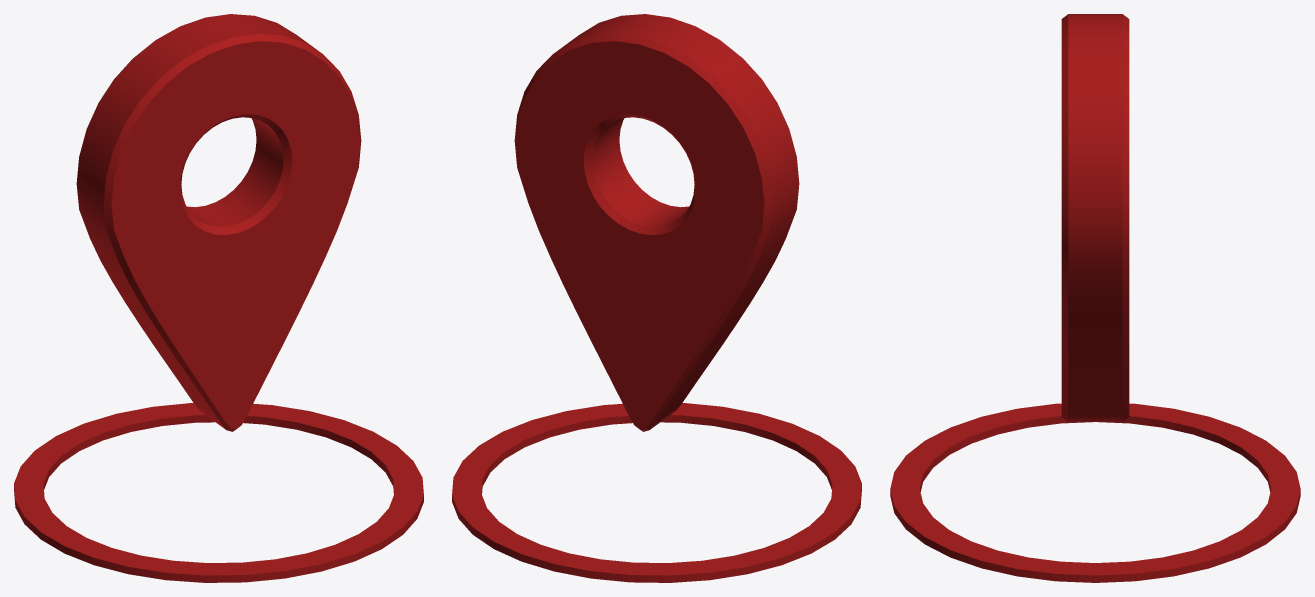
The model's file is mappointer.glb.
3 renders of one model, left to right at view 1: azimuth 30°, elevation 25°; view 2: azimuth 150°, elevation 25°; view 3: azimuth 270°, elevation 25°, orthographic.
Parts seen in each view (by area): view 1: Cylinder001, Plane001; view 2: Cylinder001, Plane001; view 3: Cylinder001, Plane001.
Boxes of the visible parts, <box> form: Cylinder001: <box>76,14,361,431</box>; Plane001: <box>14,403,423,582</box>; Cylinder001: <box>514,14,799,431</box>; Plane001: <box>452,403,861,582</box>; Cylinder001: <box>1061,14,1129,421</box>; Plane001: <box>890,403,1300,582</box>.
Bounding box in the file's own units: 1 × 1.26 × 1.
Materials: 1 (1 with a texture image).
